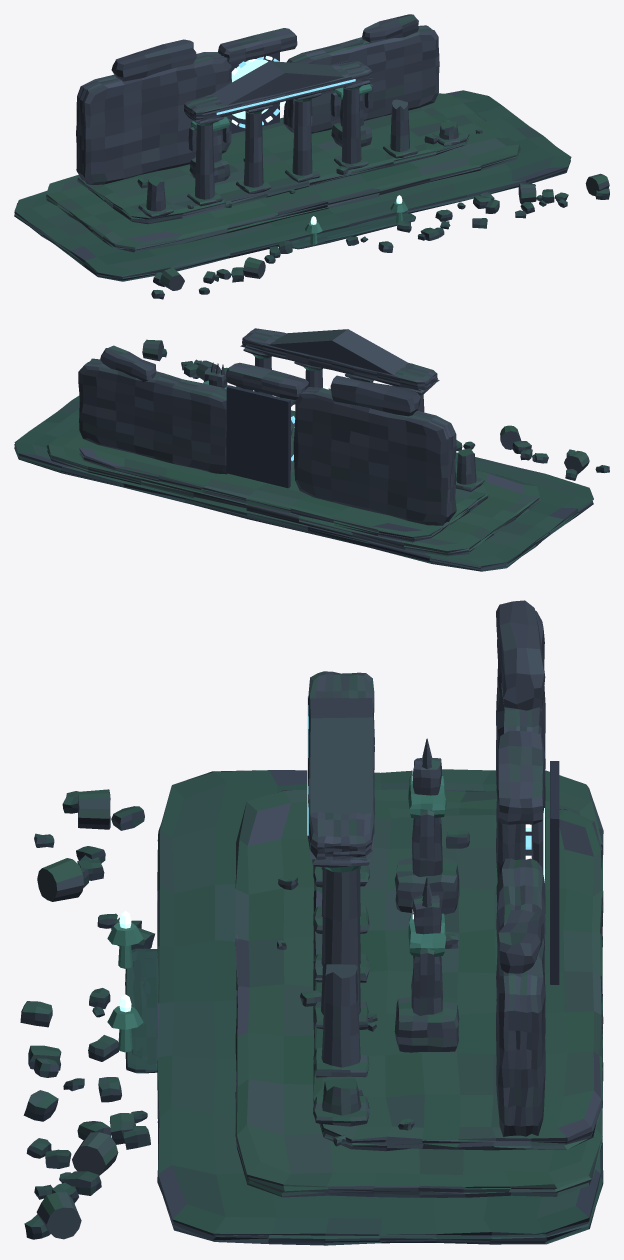
The model's file is temple.glb.
The picture shows the model from 3 angles, top to bottom: view 1: azimuth 30°, elevation 25°; view 2: azimuth 150°, elevation 25°; view 3: azimuth 270°, elevation 25°; orthographic projection. The views are drawn at different scales.
Visible parts, largest first — view 1: temple; view 2: temple; view 3: temple.
Part boxes in pixels (x1,y1,x2,y2): temple: (14, 14, 609, 299); temple: (14, 328, 609, 571); temple: (20, 600, 603, 1245).
Size of the model in its own units: 42.16 by 11.97 by 22.42.
